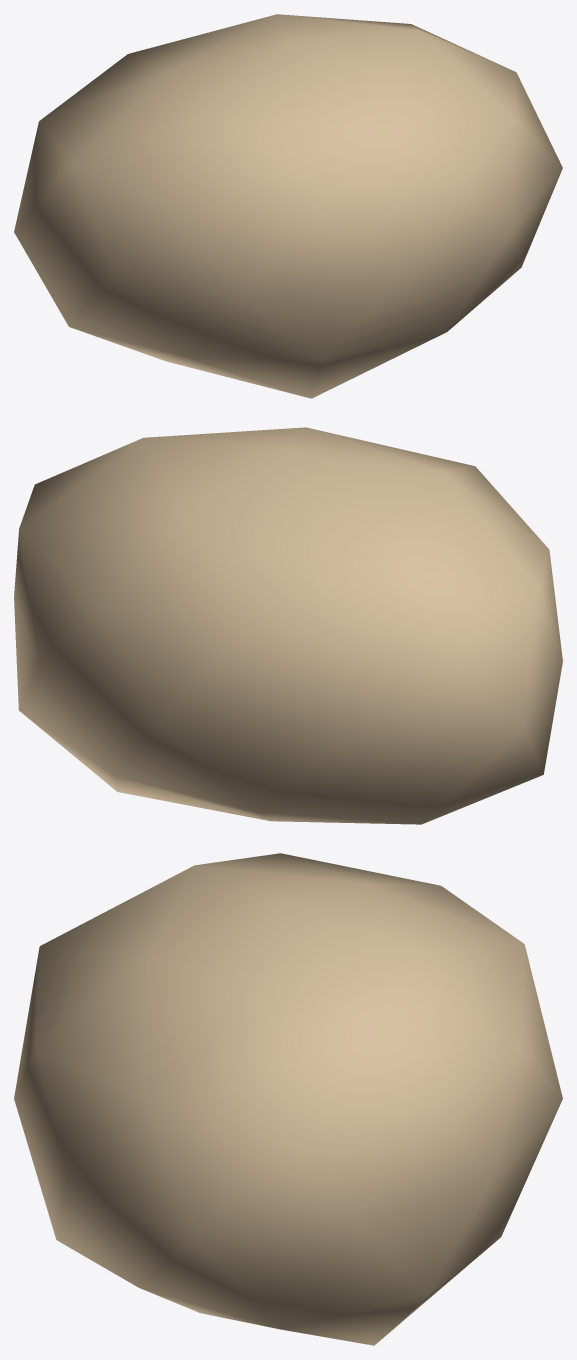
The model's file is RUBBEL_KIESEL_1.glb.
3 views of the same model, one above another, from view 1: azimuth 30°, elevation 25°; view 2: azimuth 150°, elevation 25°; view 3: azimuth 270°, elevation 25° (orthographic). The views are drawn at different scales.
Visible parts, largest first — view 1: RUBBEL_KIESEL_1; view 2: RUBBEL_KIESEL_1; view 3: RUBBEL_KIESEL_1.
Part boxes in pixels (x1,y1,x2,y2): RUBBEL_KIESEL_1: (14, 14, 562, 398); RUBBEL_KIESEL_1: (14, 427, 562, 824); RUBBEL_KIESEL_1: (14, 853, 562, 1345).
Bounding box in the file's own units: 0.3693 × 0.2225 × 0.2947.
